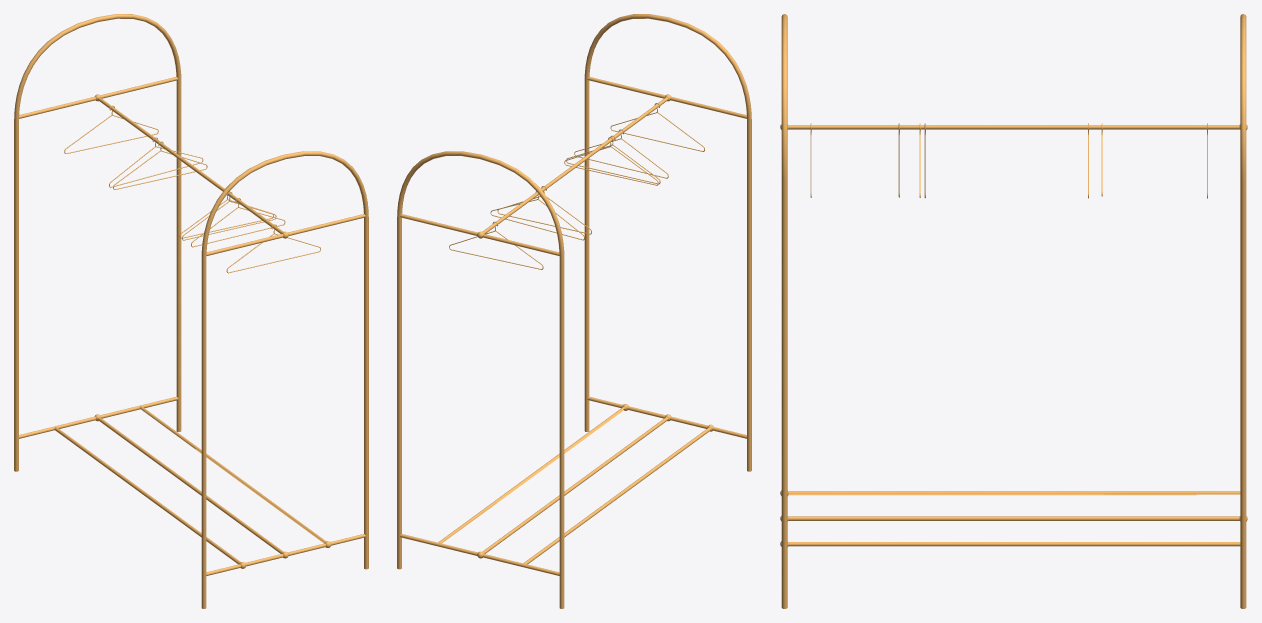
Rendered from Final Rack.fbx.
3 renders of one model, left to right at view 1: azimuth 30°, elevation 25°; view 2: azimuth 150°, elevation 25°; view 3: azimuth 270°, elevation 25°, orthographic. The views are drawn at different scales.
Visible parts, largest first — view 1: BezierCurve, BezierCurve.001, Icosphere.002, Icosphere.003, Icosphere.004, Icosphere; view 2: BezierCurve.001, BezierCurve, Icosphere.002, Icosphere.003, Icosphere.004, Icosphere; view 3: Icosphere.002, Icosphere.003, BezierCurve.001, BezierCurve.
Boxes of the visible parts, x1,y1,x2,y2 form: BezierCurve: [201, 151, 368, 608]; BezierCurve.001: [14, 14, 181, 471]; Icosphere.002: [97, 97, 283, 553]; Icosphere.003: [54, 406, 326, 564]; Icosphere.004: [19, 76, 178, 438]; Icosphere: [206, 214, 365, 575]; BezierCurve.001: [397, 151, 564, 608]; BezierCurve: [584, 14, 751, 471]; Icosphere.002: [482, 97, 668, 553]; Icosphere.003: [438, 406, 710, 564]; Icosphere.004: [400, 214, 559, 575]; Icosphere: [587, 76, 746, 438]; Icosphere.002: [788, 125, 1239, 520]; Icosphere.003: [788, 491, 1240, 546]; BezierCurve.001: [1240, 14, 1246, 608]; BezierCurve: [781, 14, 787, 608].
Size of the model in its own units: 65.48 by 163 by 130.
